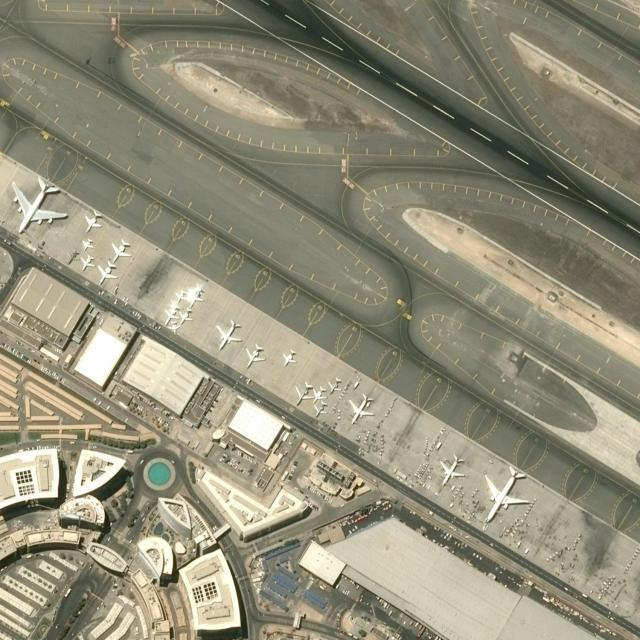Aircraft: (13, 178, 69, 236), (484, 466, 532, 524), (440, 454, 466, 488), (217, 320, 244, 352), (349, 395, 375, 425), (245, 346, 267, 369), (98, 261, 118, 285), (112, 239, 132, 263), (295, 382, 314, 406), (85, 210, 103, 234), (189, 288, 205, 309), (163, 307, 179, 325), (282, 351, 298, 368), (314, 385, 328, 404), (315, 402, 329, 421), (67, 251, 81, 267), (82, 256, 96, 272), (181, 309, 195, 325), (328, 379, 342, 395), (175, 289, 188, 303), (83, 238, 95, 252), (169, 321, 181, 335)
